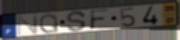4: (142, 5, 160, 26)
5: (119, 6, 137, 28)
F: (89, 8, 111, 31)
N: (16, 13, 40, 37)
Q: (38, 12, 60, 34)
S: (65, 10, 87, 33)
